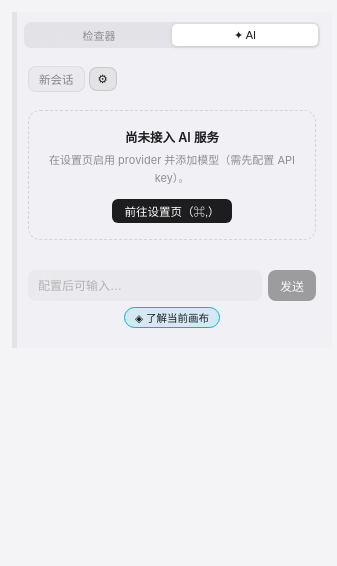
Test: RightPanel ✦AI 改动预览卡 › 忽略：预览卡消失且不执行；执行失败出错误回执
Type "加一场" into the field named "AI 对话输入" at (145, 286), box [28,270,262,301]
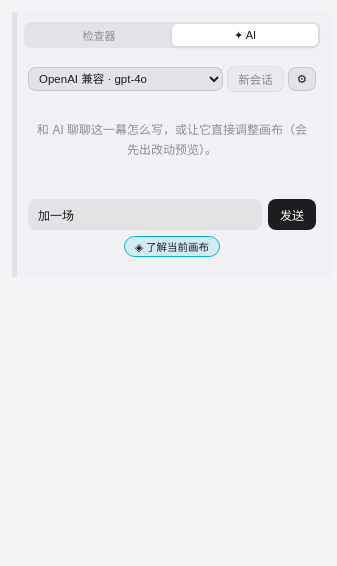
Press Enter in the field named "AI 对话输入", box [28,199,262,230]
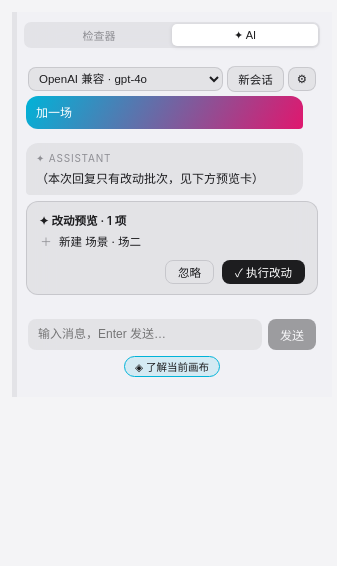
Click the button "忽略" at (189, 272), box [165,260,214,284]
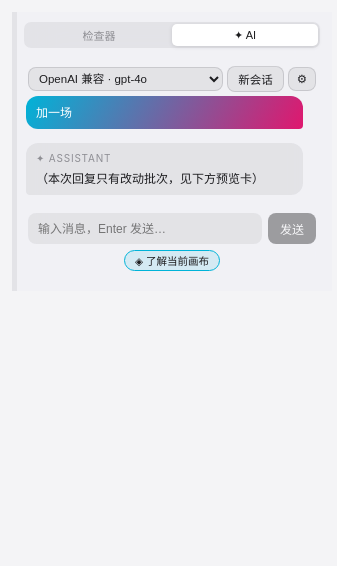
Type "再加一场" into the field named "AI 对话输入" at (145, 229), box [28,213,262,244]
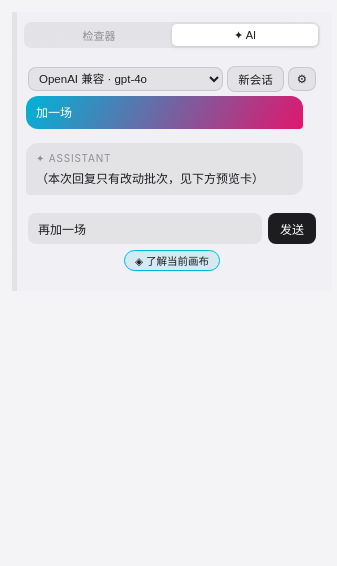
Press Enter in the field named "AI 对话输入", box [28,213,262,244]
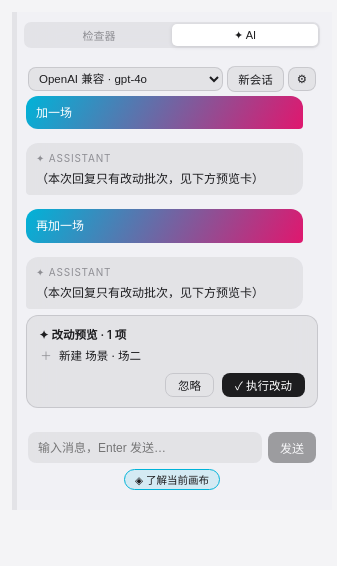
Click the button "✓ 执行改动" at (263, 385), box [222,373,305,397]
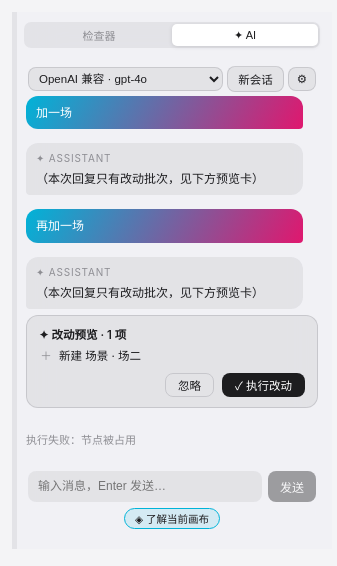
Now the text "执行失败：节点被占用" is shown, box [26,433,136,447]
